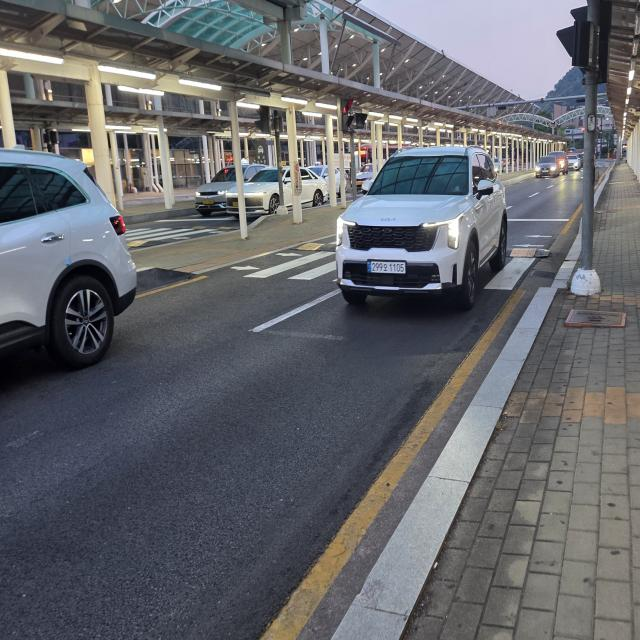car: (327, 120, 522, 323)
